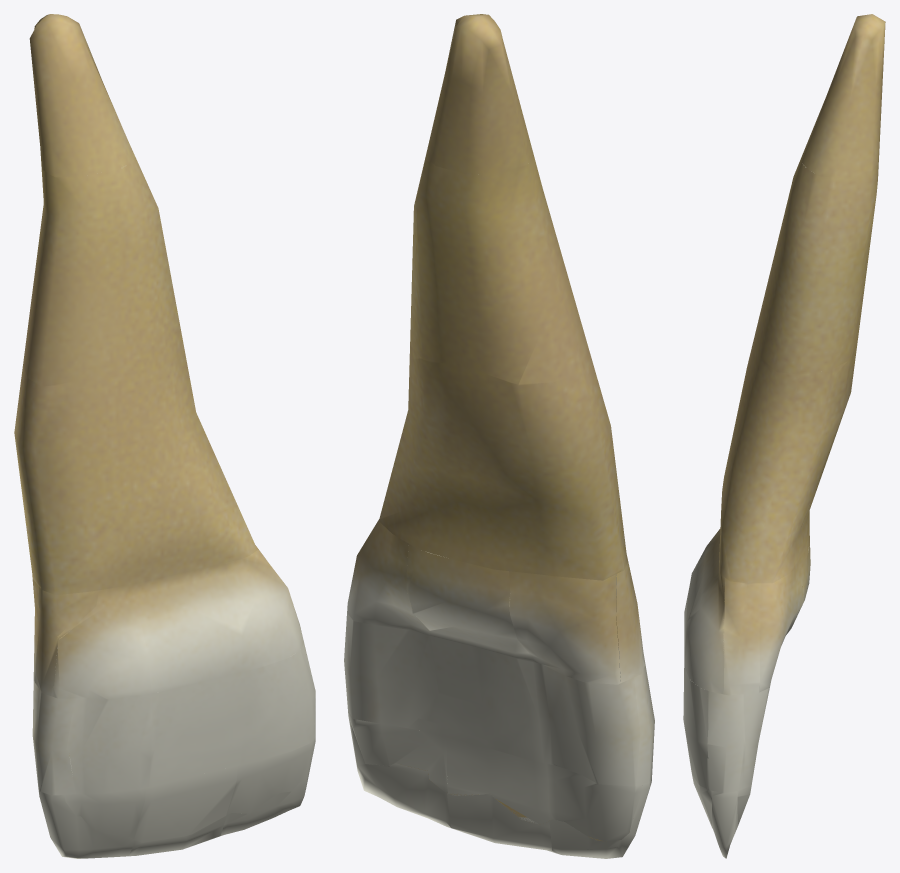
Rendered from Left_Upper_Lateral_Incisor.glb.
The picture shows the model from 3 angles, left to right: view 1: azimuth 30°, elevation 25°; view 2: azimuth 150°, elevation 25°; view 3: azimuth 270°, elevation 25°; orthographic projection. The views are drawn at different scales.
Parts seen in each view (by area): view 1: Human_Teeth_Upper_Lateral_Incisor_Geo.029; view 2: Human_Teeth_Upper_Lateral_Incisor_Geo.029; view 3: Human_Teeth_Upper_Lateral_Incisor_Geo.029.
Boxes of the visible parts, <box> form: Human_Teeth_Upper_Lateral_Incisor_Geo.029: <box>14,14,315,858</box>; Human_Teeth_Upper_Lateral_Incisor_Geo.029: <box>344,14,654,858</box>; Human_Teeth_Upper_Lateral_Incisor_Geo.029: <box>683,14,885,858</box>.
Bounding box in the file's own units: 1.09 × 3.04 × 0.7169.
30 materials, 30 textured.
